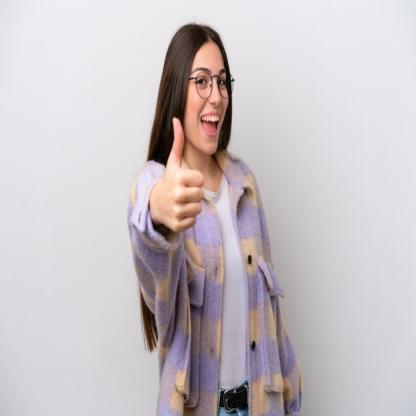thumb_up: (151, 114, 204, 236)
